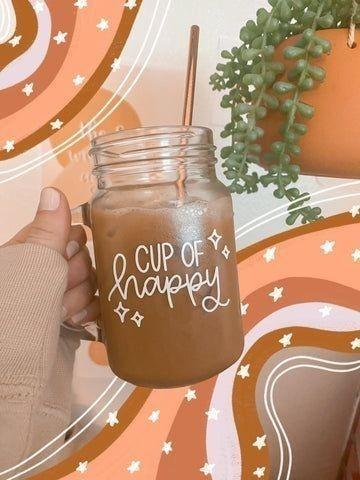glass-mug: (48, 122, 249, 392)
